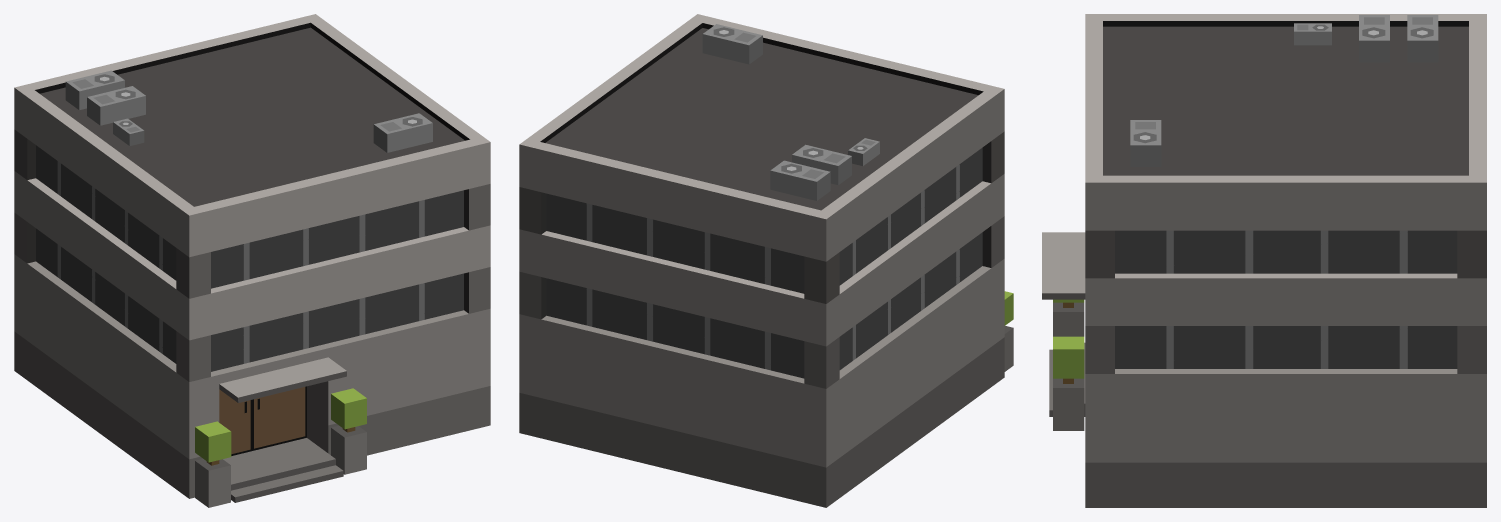
File: office_small_grey.obj
3 renders of one model, left to right at view 1: azimuth 30°, elevation 25°; view 2: azimuth 150°, elevation 25°; view 3: azimuth 270°, elevation 25°, orthographic. The views are drawn at different scales.
Parts seen in each view (by area): view 1: ST_Building_OfficeSmall_Grey_Untitled.010; view 2: ST_Building_OfficeSmall_Grey_Untitled.010; view 3: ST_Building_OfficeSmall_Grey_Untitled.010.
Part boxes in pixels (x1=…): ST_Building_OfficeSmall_Grey_Untitled.010: x1=14, y1=14, x2=490, y2=507; ST_Building_OfficeSmall_Grey_Untitled.010: x1=519, y1=14, x2=1013, y2=507; ST_Building_OfficeSmall_Grey_Untitled.010: x1=1042, y1=14, x2=1486, y2=507.
Size of the model in its own units: 13.62 by 12.84 by 15.17.
1 material, 1 textured.
